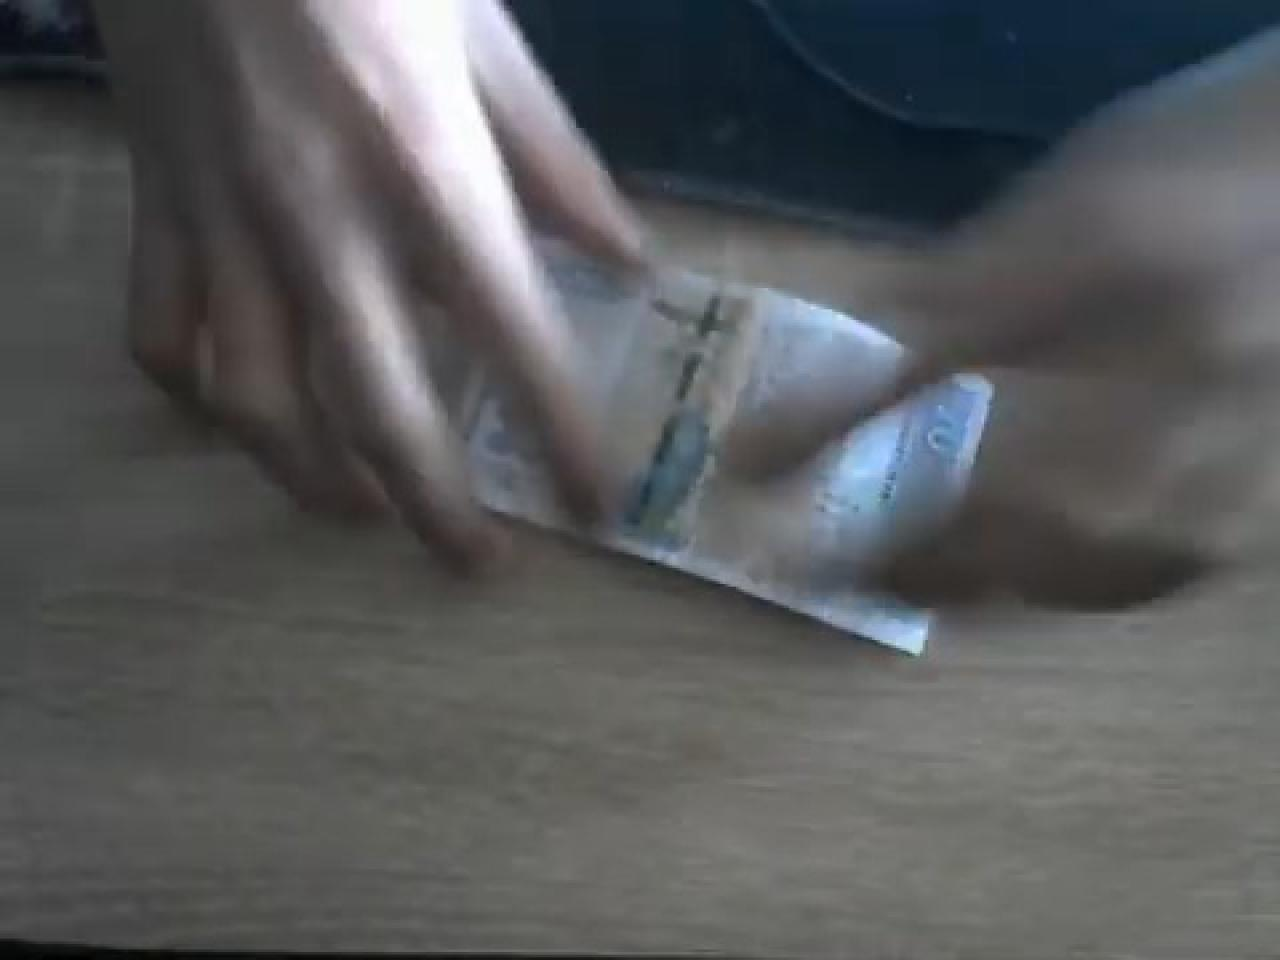20leva: (696, 371, 998, 645)
